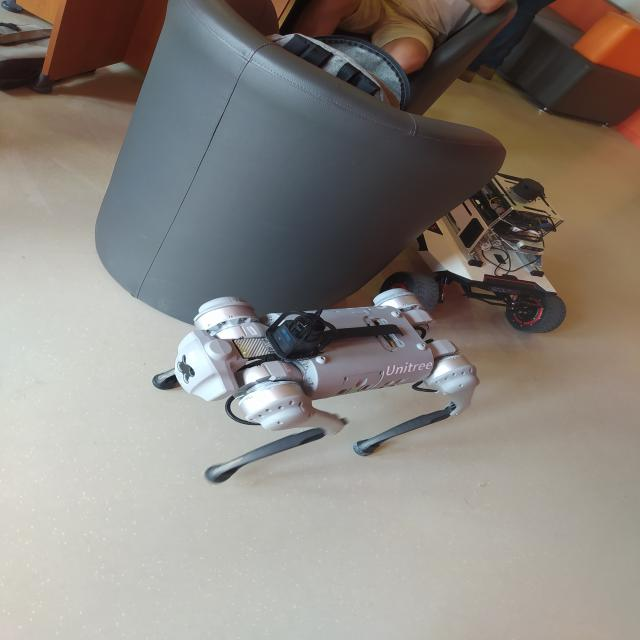unitree-go1-robot: (148, 292, 480, 486)
